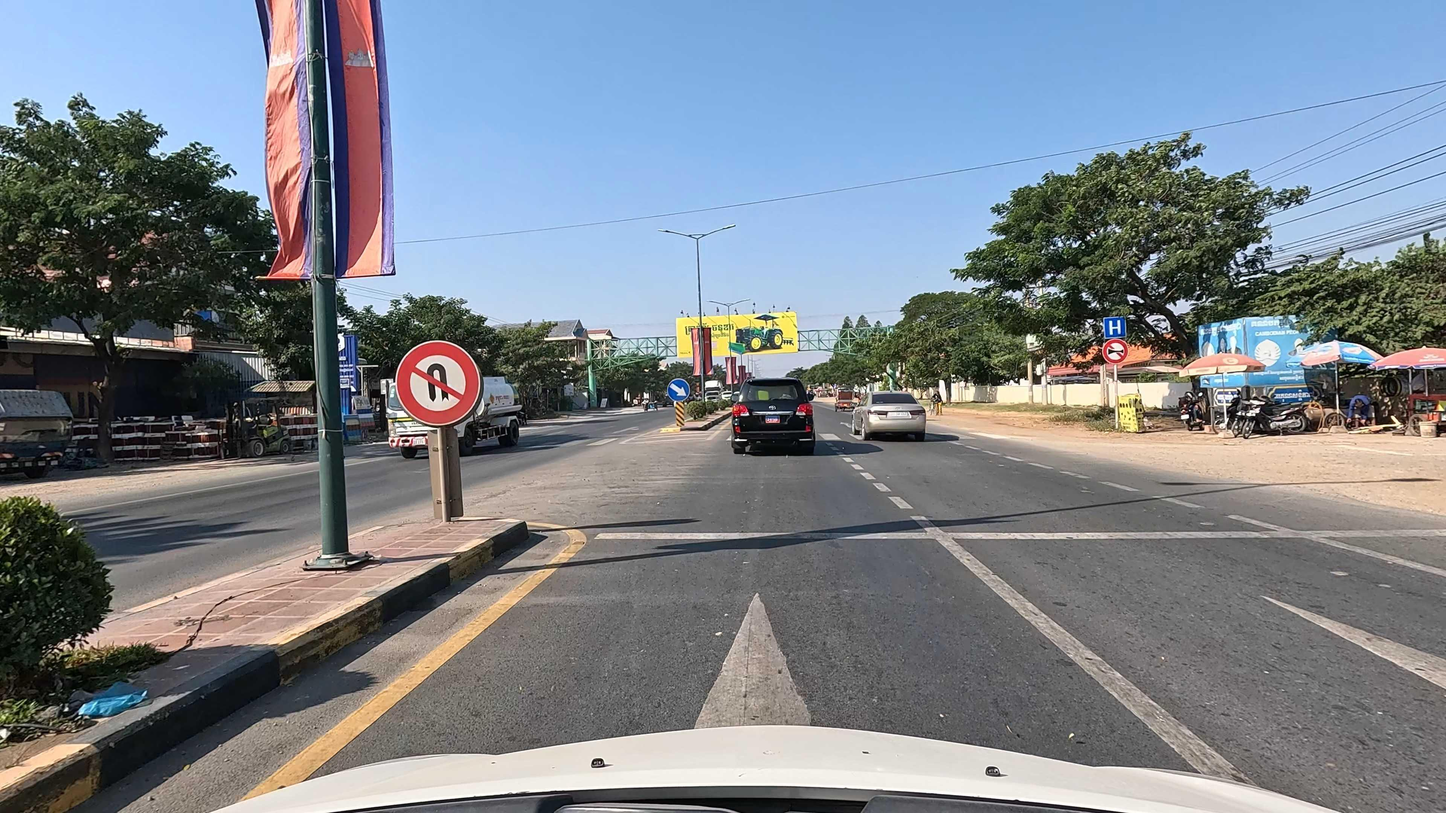hospital: (1103, 315, 1128, 338)
keep_right: (668, 379, 692, 403)
no_honking: (1101, 338, 1128, 365)
no_u_turn: (393, 339, 484, 430)
